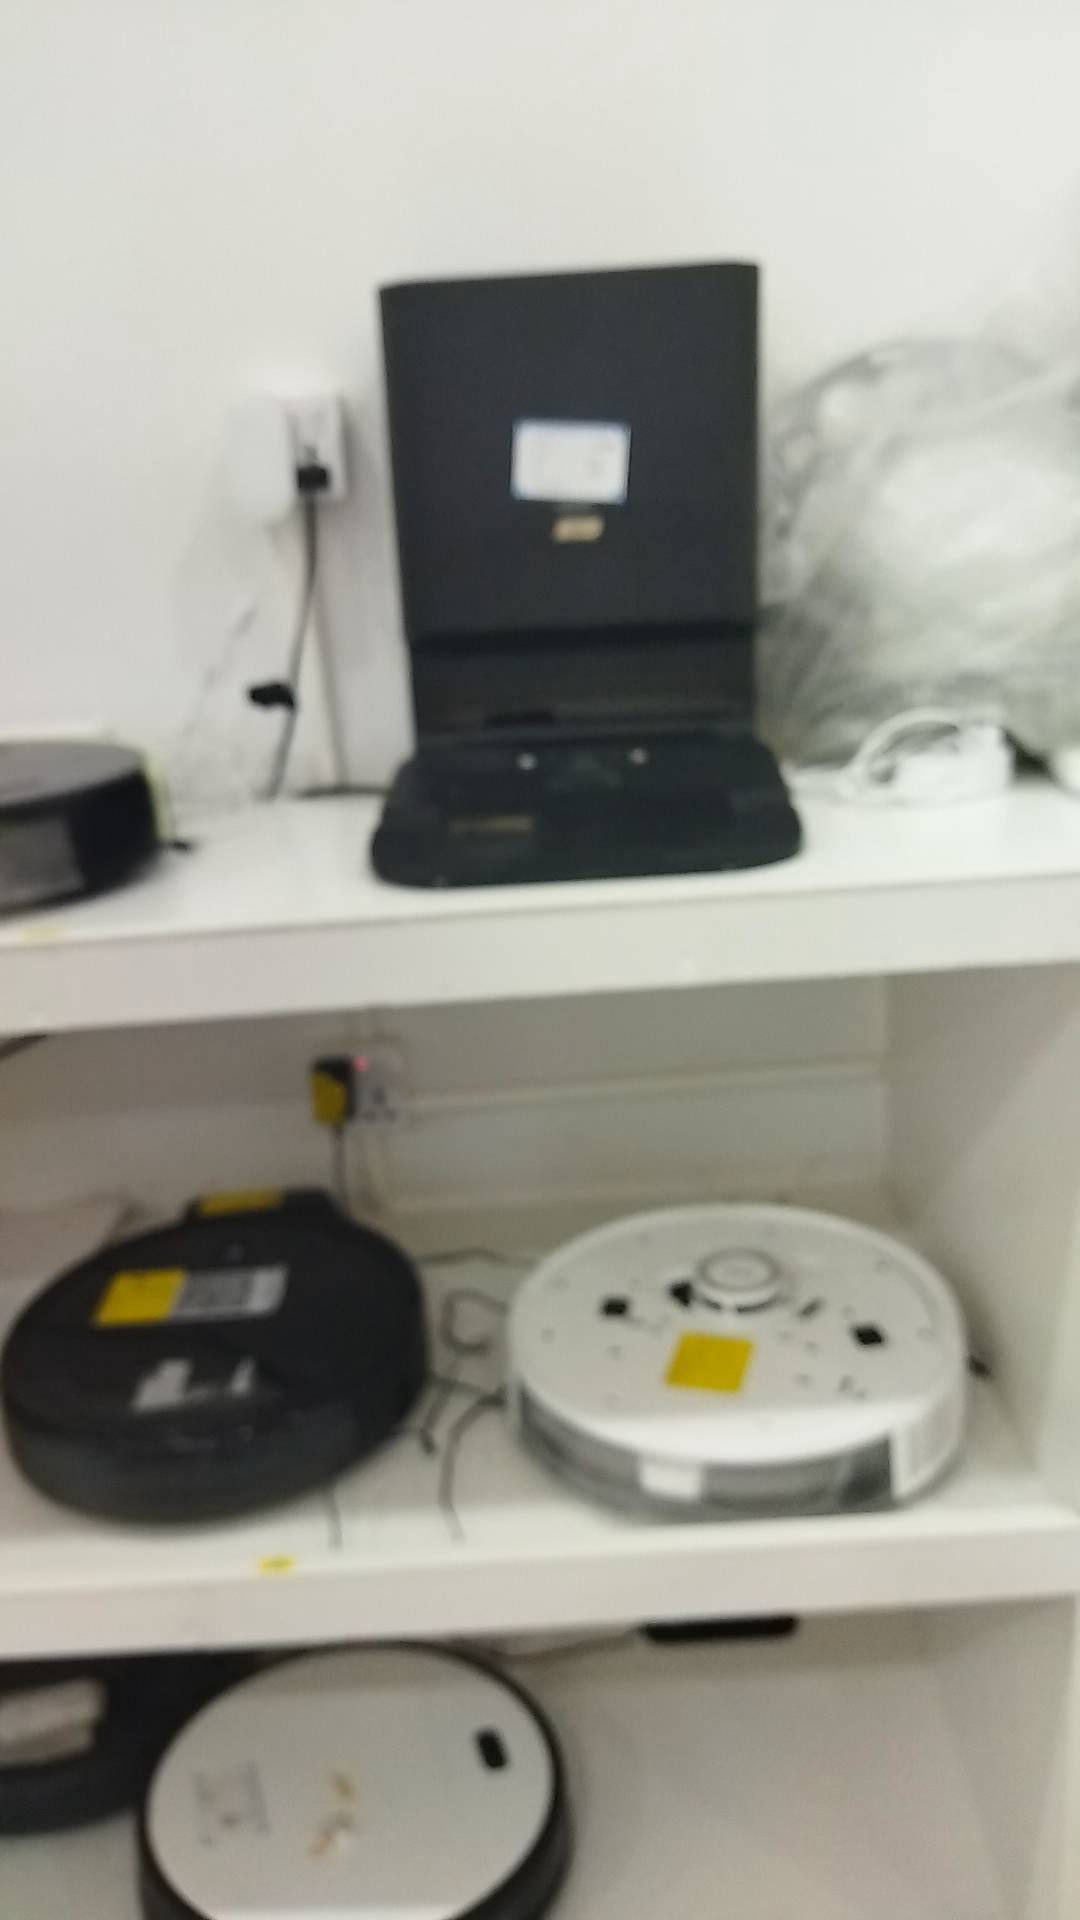dust collecting barrel: (368, 262, 804, 893)
